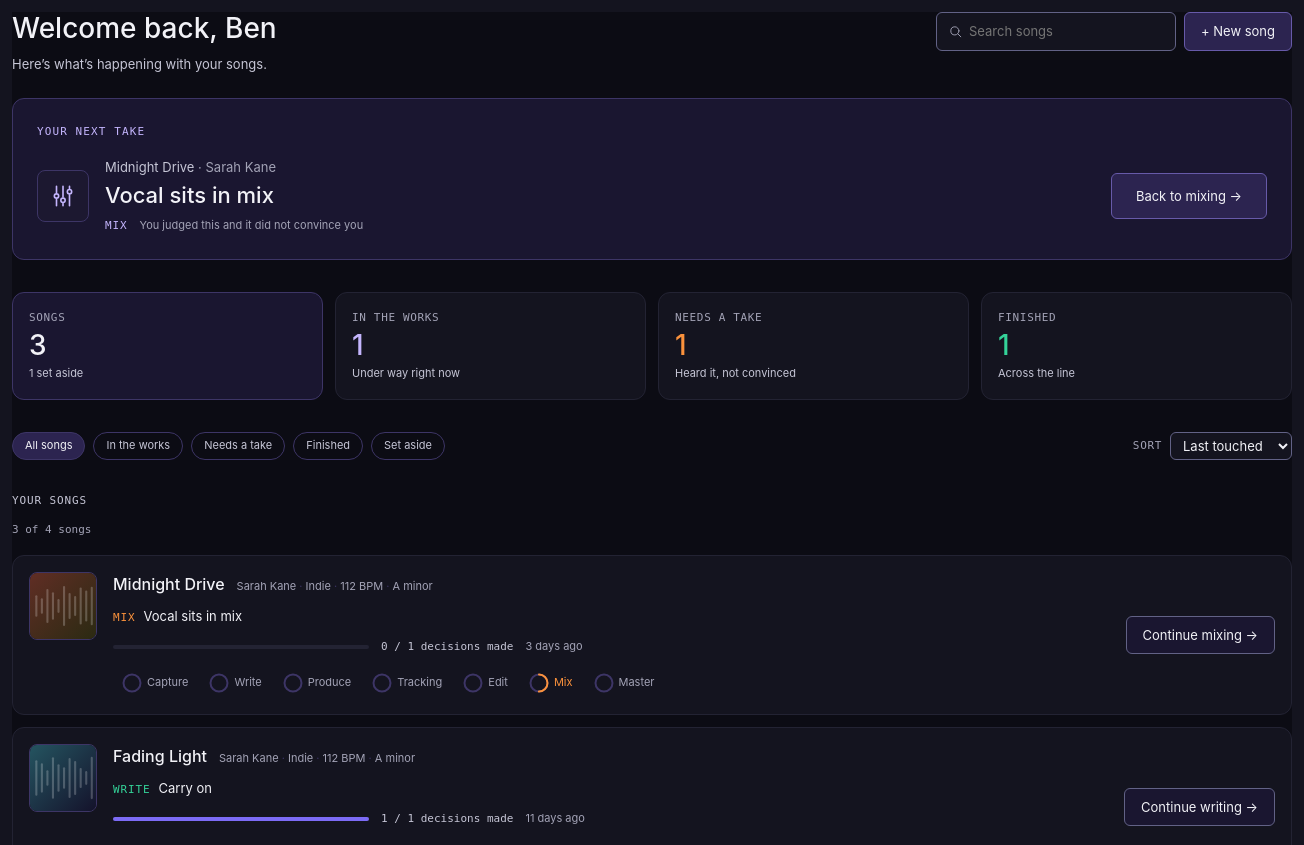
Test: the dashboard › offers a way out when a filter leaves nothing
This screenshot has width=1304, height=845.
Expected: the heading "Welcome back, Ben" is shown, [12,12,277,46]
Type "nothing like this" into the search field with placeholder "Search songs".
click(1056, 31); type("nothing like this")  # box [936,12,1176,51]
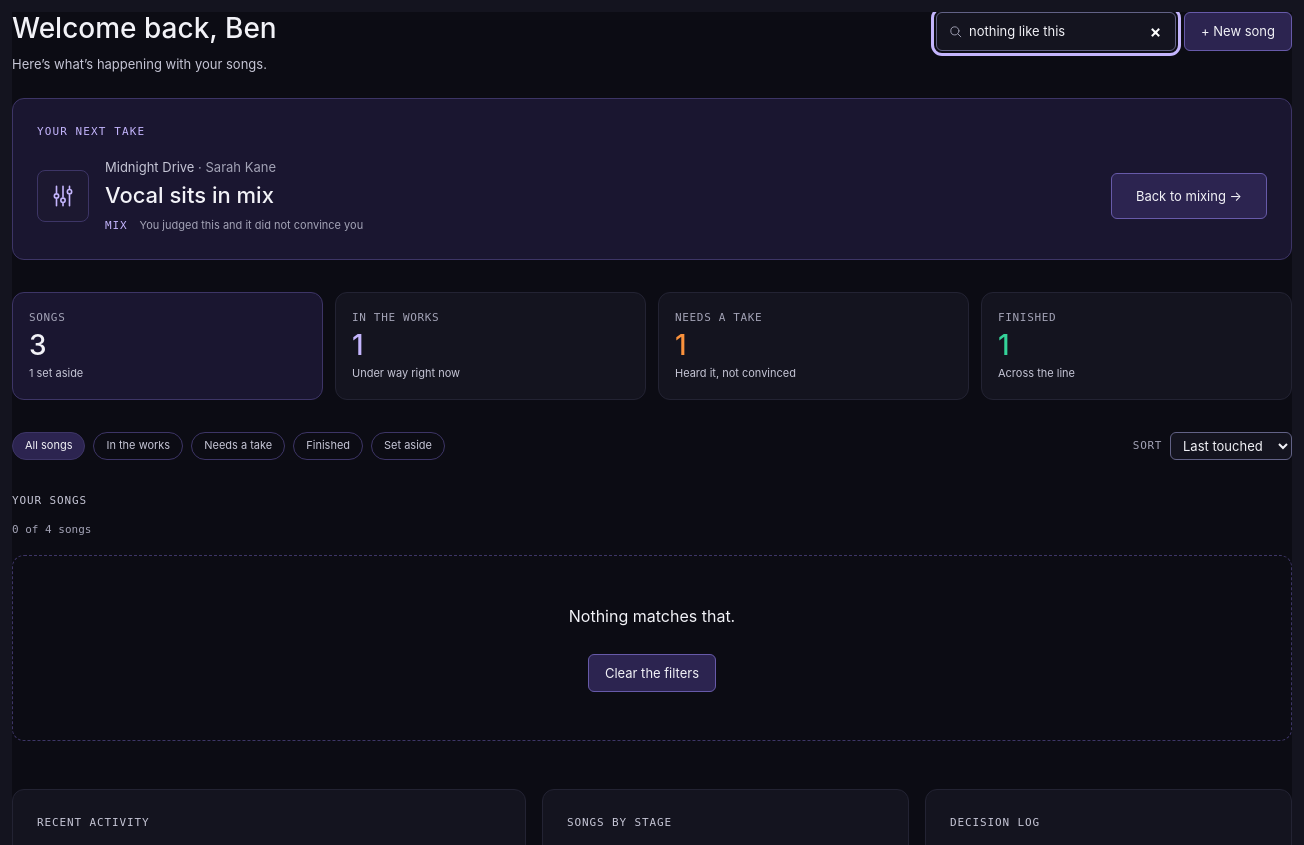
Click the button "Clear the filters".
click(652, 673)  # box [588,654,716,692]
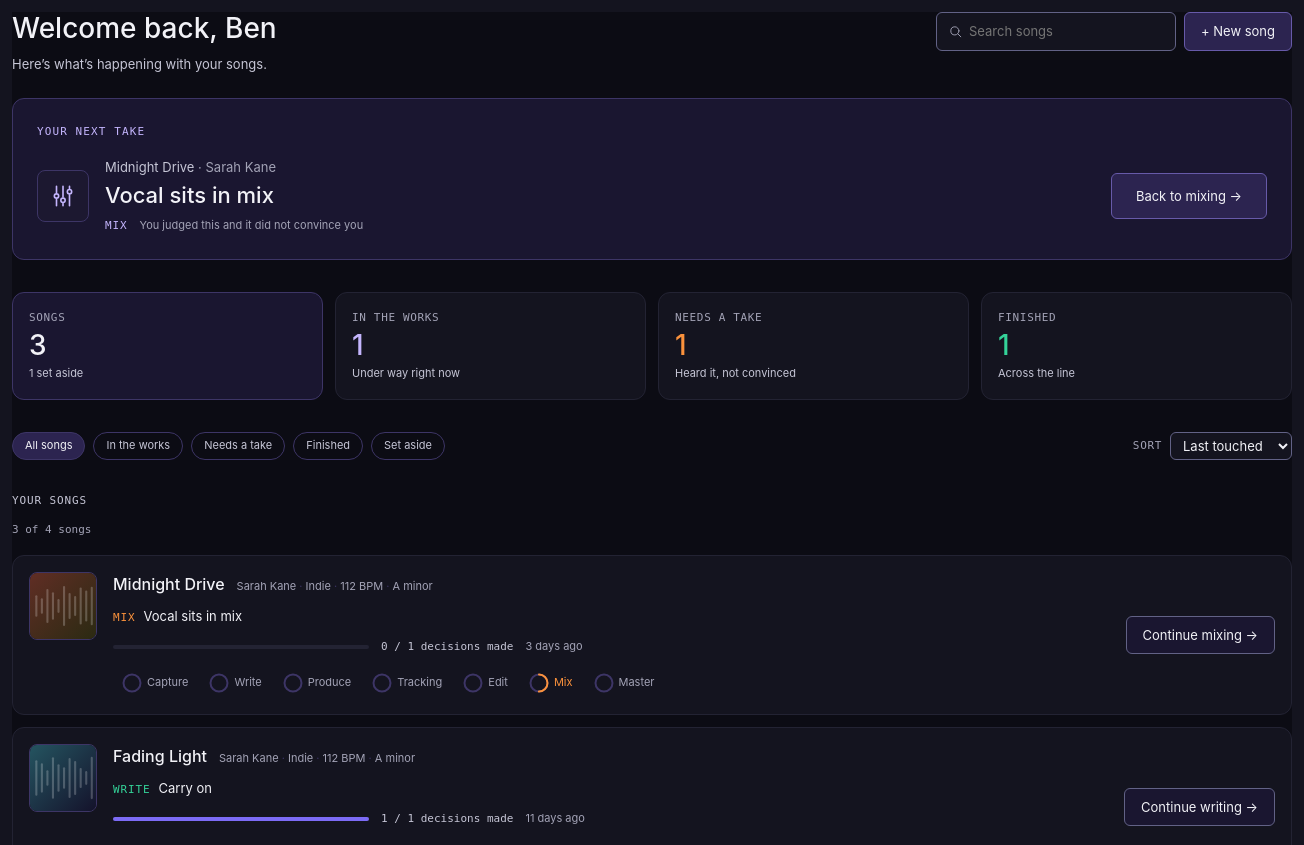
Now the heading "Midnight Drive" is shown, box [113,572,225,598]
